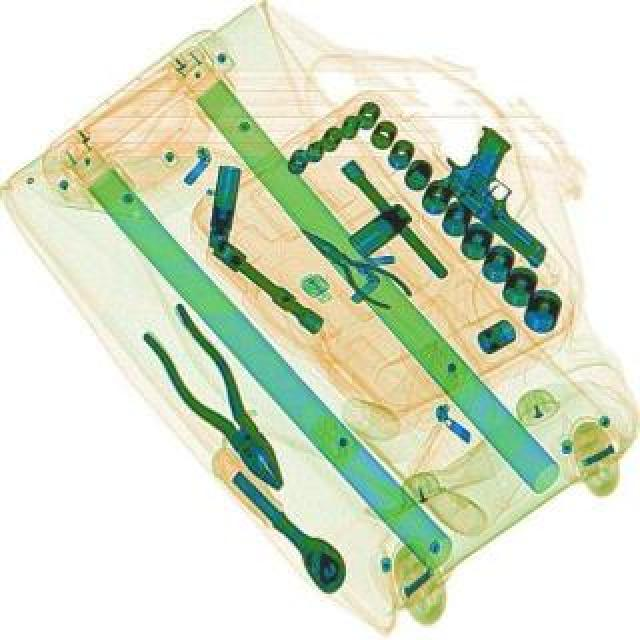gun: (426, 122, 592, 270)
wrench: (128, 302, 304, 506), (288, 218, 418, 322)
